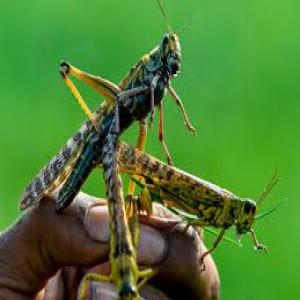locust: (28, 20, 185, 204), (132, 134, 285, 259)
